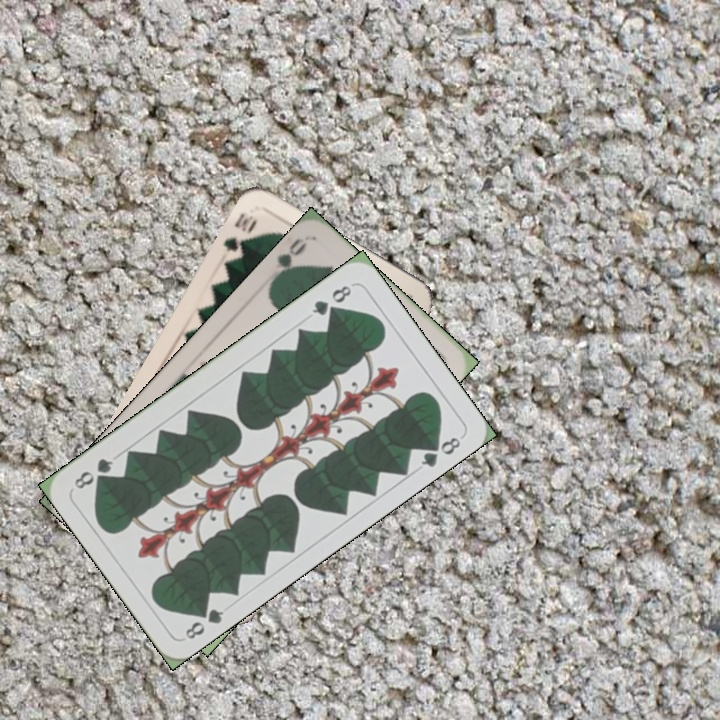G10: (219, 208, 260, 264)
G8: (181, 601, 227, 642), (308, 281, 354, 319)
GO: (267, 234, 310, 285)
